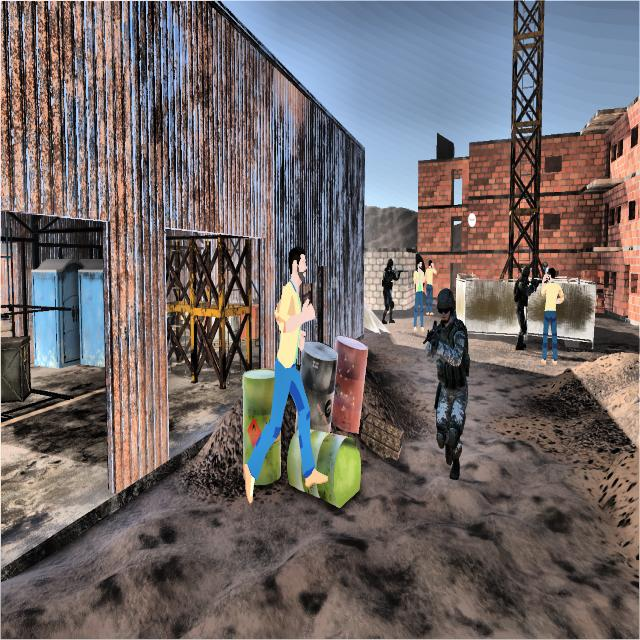bad: (419, 279, 479, 492), (512, 249, 535, 354), (380, 251, 401, 330)
good: (236, 211, 333, 507), (538, 261, 563, 369), (412, 252, 426, 337), (424, 252, 437, 317)
